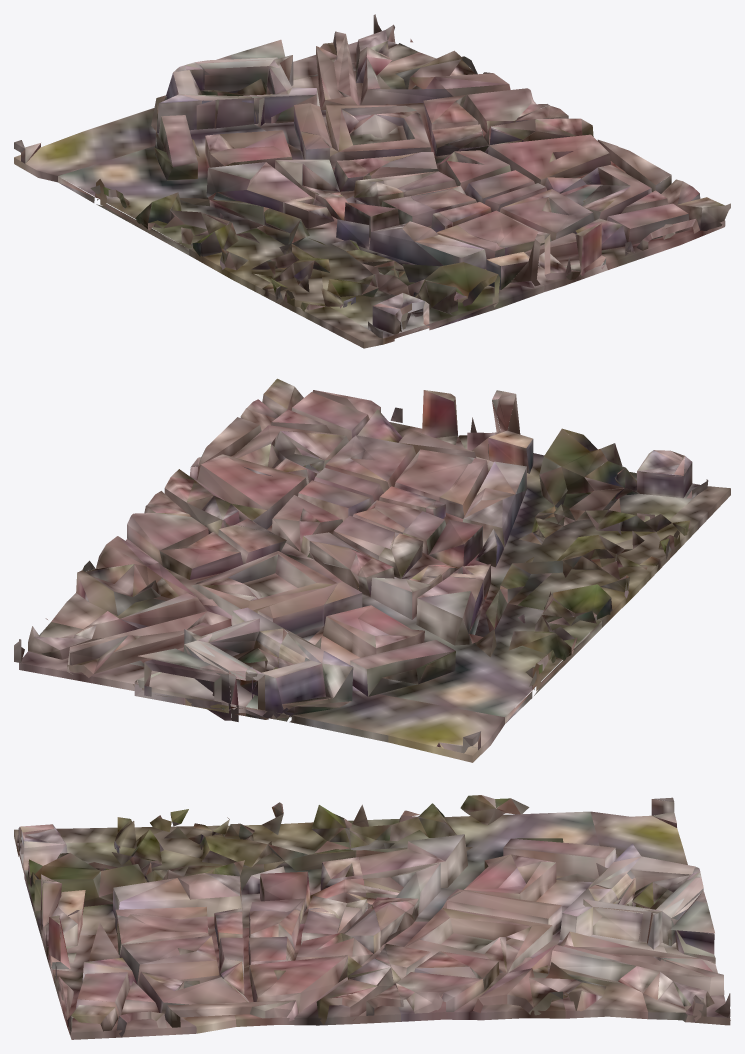
The picture shows the model from 3 angles, top to bottom: view 1: azimuth 30°, elevation 25°; view 2: azimuth 150°, elevation 25°; view 3: azimuth 270°, elevation 25°; orthographic projection. The views are drawn at different scales.
Parts seen in each view (by area): view 1: Mesh_0; view 2: Mesh_0; view 3: Mesh_0.
Boxes of the visible parts, x1,y1,x2,y2 form: Mesh_0: [14, 14, 730, 348]; Mesh_0: [14, 378, 730, 762]; Mesh_0: [14, 795, 730, 1039].
Bounding box in the file's own units: 540 × 86.98 × 660.
2 materials, 2 textured.
